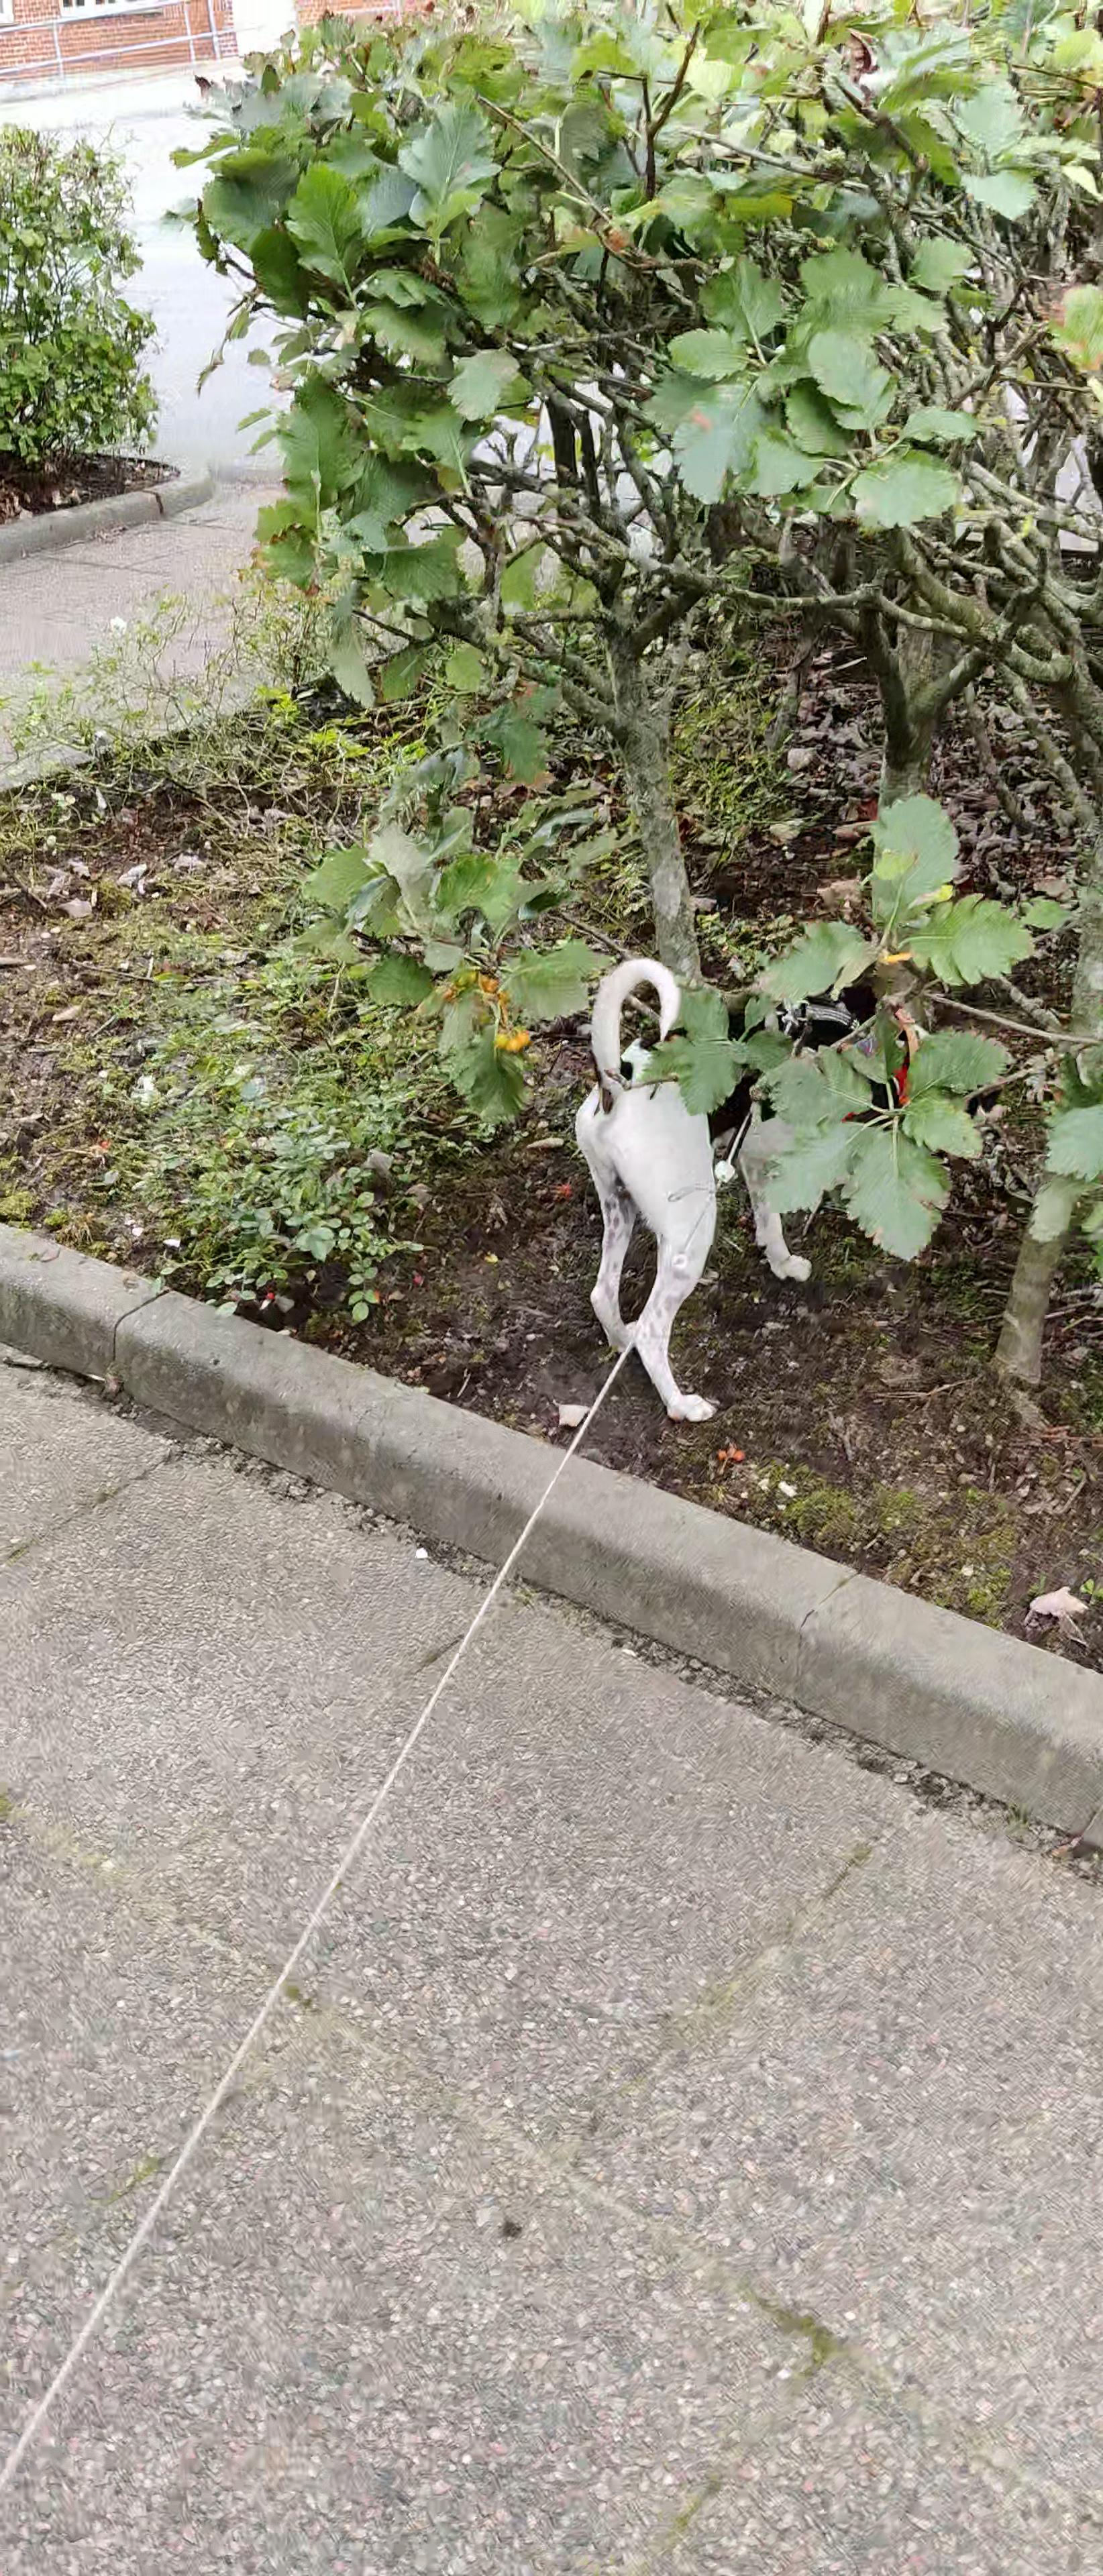Dog: (570, 930, 1019, 1437)
